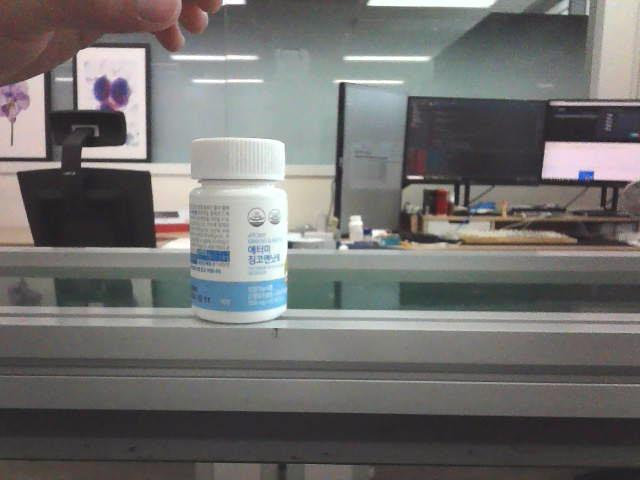labeled: (185, 129, 294, 326)
